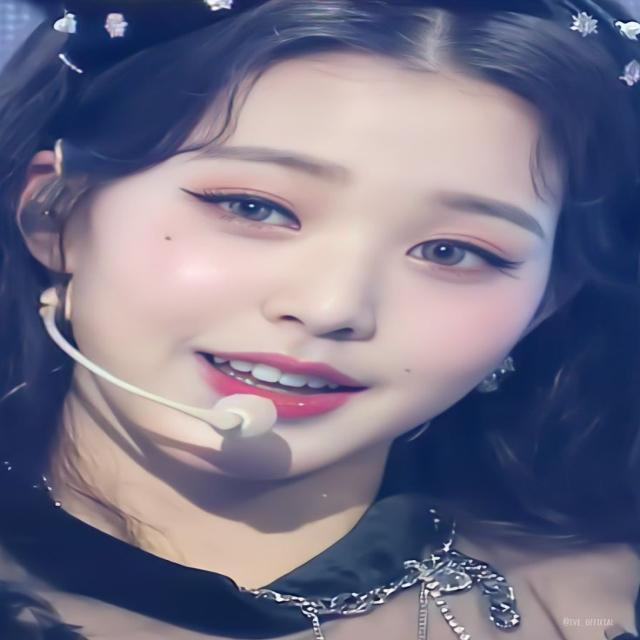earphone: (34, 125, 288, 495)
